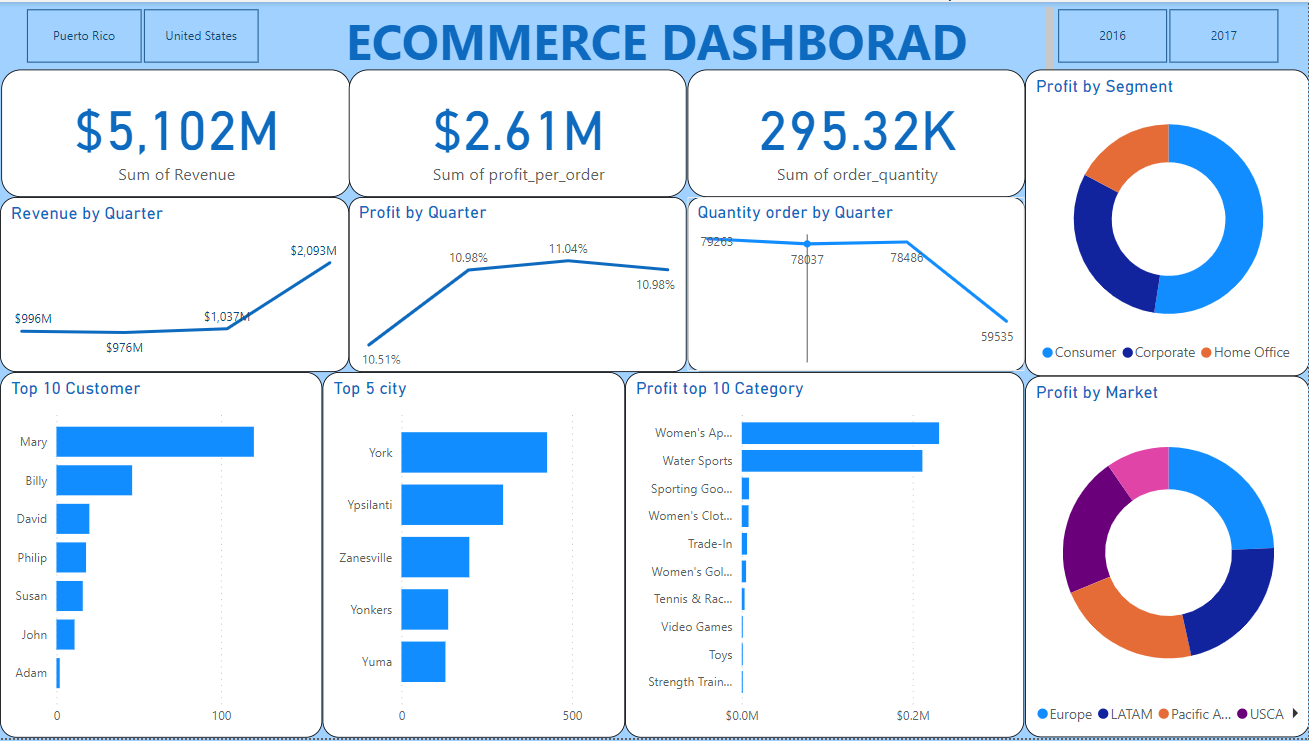

What the dashboard file says about the page in this screenshot:
{"tool":"powerbi","page":{"name":"Overview","canvas":[1280,720],"ordinal":0},"visuals":[{"type":"textbox","box":[407.2,0,568.6,50.1],"z":0},{"type":"card","fields":{"Values":["ecommerce_order.Total Revenue"]},"box":[140.6,50.1,176.1,96.6],"z":1000},{"type":"card","fields":{"Values":["ecommerce_order.YTD Revenue"]},"box":[317.9,50.1,194.4,51.4],"z":2000},{"type":"card","fields":{"Values":["ecommerce_order.Diff Revenue"]},"box":[318.4,102.9,109.8,43.9],"z":3000},{"type":"card","fields":{"Values":["ecommerce_order.YOY Revenue"]},"box":[428.1,102.9,83.7,43.9],"z":4000},{"type":"card","fields":{"Values":["ecommerce_order.Total Profit"]},"box":[524.6,50.1,177.3,96.6],"z":5000},{"type":"card","fields":{"Values":["ecommerce_order.YTD Profit"]},"box":[703.1,50.1,193.2,51.4],"z":6000},{"type":"card","fields":{"Values":["ecommerce_order.Diff Profit"]},"box":[703.1,102.7,108.8,44],"z":7000},{"type":"card","fields":{"Values":["ecommerce_order.Total Order"]},"box":[908.6,50.1,177.3,96.6],"z":8000},{"type":"card","fields":{"Values":["ecommerce_order.YTD Order"]},"box":[1086.8,50.1,193.2,51.4],"z":9000},{"type":"card","fields":{"Values":["ecommerce_order.Diff Order"]},"box":[1086.8,102.9,109.8,43.9],"z":10000},{"type":"card","fields":{"Values":["ecommerce_order.YOY Order"]},"box":[1196.6,102.9,83.7,43.9],"z":11000},{"type":"card","fields":{"Values":["ecommerce_order.YOY Profit"]},"box":[813.2,102.7,84.4,44],"z":12000},{"type":"slicer","fields":{"Values":["calendar.Date_format"]},"box":[1023.5,0,215.2,40.4],"z":13000},{"type":"areaChart","title":"Revenue Weekly Trend","fields":{"Category":["calendar.Week_No"],"Y":["ecommerce_order.Total Revenue","ecommerce_order.MaxPoint"]},"box":[140.6,170,370.5,209.1],"z":14000},{"type":"areaChart","title":"Profit Weekly Trend","fields":{"Category":["calendar.Week_No"],"Y":["ecommerce_order.Total Profit","ecommerce_order.MaxPoint Profit"]},"box":[524.6,171.2,370.5,207.9],"z":15000},{"type":"areaChart","title":"Revenue Weekly Trend","fields":{"Category":["calendar.Week_No"],"Y":["ecommerce_order.Total Order","ecommerce_order.MaxPoint Order"]},"box":[909.8,172.4,370.5,206.7],"z":16000},{"type":"donutChart","title":"Revenue by country","fields":{"Y":["ecommerce_order.Total Revenue"],"Category":["ecommerce_customer.customer_country"]},"box":[140,407.5,211.3,288.2],"z":17000},{"type":"donutChart","title":"Revenue by segment","fields":{"Y":["ecommerce_order.Total Revenue"],"Category":["ecommerce_customer.customer_segment"]},"box":[364.4,407.2,221.3,288.6],"z":18000},{"type":"clusteredBarChart","title":"Top 5 Customer","fields":{"Y":["ecommerce_order.Total Order"],"Category":["ecommerce_customer.customer_fname"]},"box":[602.9,407.2,194.4,288.6],"z":19000},{"type":"clusteredBarChart","title":"Top 10 Category","fields":{"Y":["ecommerce_order.Total Order"],"Category":["ecommerce_order.category_name"]},"box":[813.7,407.5,223.7,288.2],"z":20000},{"type":"textbox","box":[0,75.8,140.6,33],"z":21000},{"type":"textbox","box":[0,275.1,140.6,33],"z":22000},{"type":"slicer","fields":{"Values":["ecommerce_customer.customer_city"]},"box":[0,392.5,124.7,66],"z":23000},{"type":"slicer","fields":{"Values":["ecommerce_customer.customer_segment"]},"box":[0,470.8,124.7,64.8],"z":24000},{"type":"slicer","fields":{"Values":["ecommerce_order.market"]},"box":[0,551.5,124.7,62.4],"z":25000},{"type":"slicer","fields":{"Values":["ecommerce_order.category_name"]},"box":[0,629.8,124.7,66],"z":26000},{"type":"pageNavigator","box":[0,124.7,124.7,135.7],"z":27000},{"type":"slicer","fields":{"Values":["ecommerce_customer.customer_country"]},"box":[0,313,124.7,66],"z":28000},{"type":"clusteredBarChart","title":"Top 10 City","fields":{"Y":["ecommerce_order.Total Order"],"Category":["ecommerce_customer.customer_city"]},"box":[1051.6,407.2,223.8,288.6],"z":28001}]}

Visuals, with their boxes in screenshot pixels (x1, y1, x2, y2), scaled from the page's 1280x720 canvas onto the 1309x741 screenshot:
textbox: l=416, t=0, r=998, b=52
card - ecommerce_order.Total Revenue: l=144, t=52, r=324, b=151
card - ecommerce_order.YTD Revenue: l=325, t=52, r=524, b=104
card - ecommerce_order.Diff Revenue: l=326, t=106, r=438, b=151
card - ecommerce_order.YOY Revenue: l=438, t=106, r=523, b=151
card - ecommerce_order.Total Profit: l=536, t=52, r=718, b=151
card - ecommerce_order.YTD Profit: l=719, t=52, r=917, b=104
card - ecommerce_order.Diff Profit: l=719, t=106, r=830, b=151
card - ecommerce_order.Total Order: l=929, t=52, r=1111, b=151
card - ecommerce_order.YTD Order: l=1111, t=52, r=1308, b=104
card - ecommerce_order.Diff Order: l=1111, t=106, r=1224, b=151
card - ecommerce_order.YOY Order: l=1224, t=106, r=1308, b=151
card - ecommerce_order.YOY Profit: l=832, t=106, r=918, b=151
slicer - calendar.Date_format: l=1047, t=0, r=1267, b=42
"Revenue Weekly Trend" areaChart: l=144, t=175, r=523, b=390
"Profit Weekly Trend" areaChart: l=536, t=176, r=915, b=390
"Revenue Weekly Trend" areaChart: l=930, t=177, r=1308, b=390
"Revenue by country" donutChart: l=143, t=419, r=359, b=716
"Revenue by segment" donutChart: l=373, t=419, r=599, b=716
"Top 5 Customer" clusteredBarChart: l=617, t=419, r=815, b=716
"Top 10 Category" clusteredBarChart: l=832, t=419, r=1061, b=716
textbox: l=0, t=78, r=144, b=112
textbox: l=0, t=283, r=144, b=317
slicer - ecommerce_customer.customer_city: l=0, t=404, r=128, b=472
slicer - ecommerce_customer.customer_segment: l=0, t=485, r=128, b=551
slicer - ecommerce_order.market: l=0, t=568, r=128, b=632
slicer - ecommerce_order.category_name: l=0, t=648, r=128, b=716
pageNavigator: l=0, t=128, r=128, b=268
slicer - ecommerce_customer.customer_country: l=0, t=322, r=128, b=390
"Top 10 City" clusteredBarChart: l=1075, t=419, r=1304, b=716
